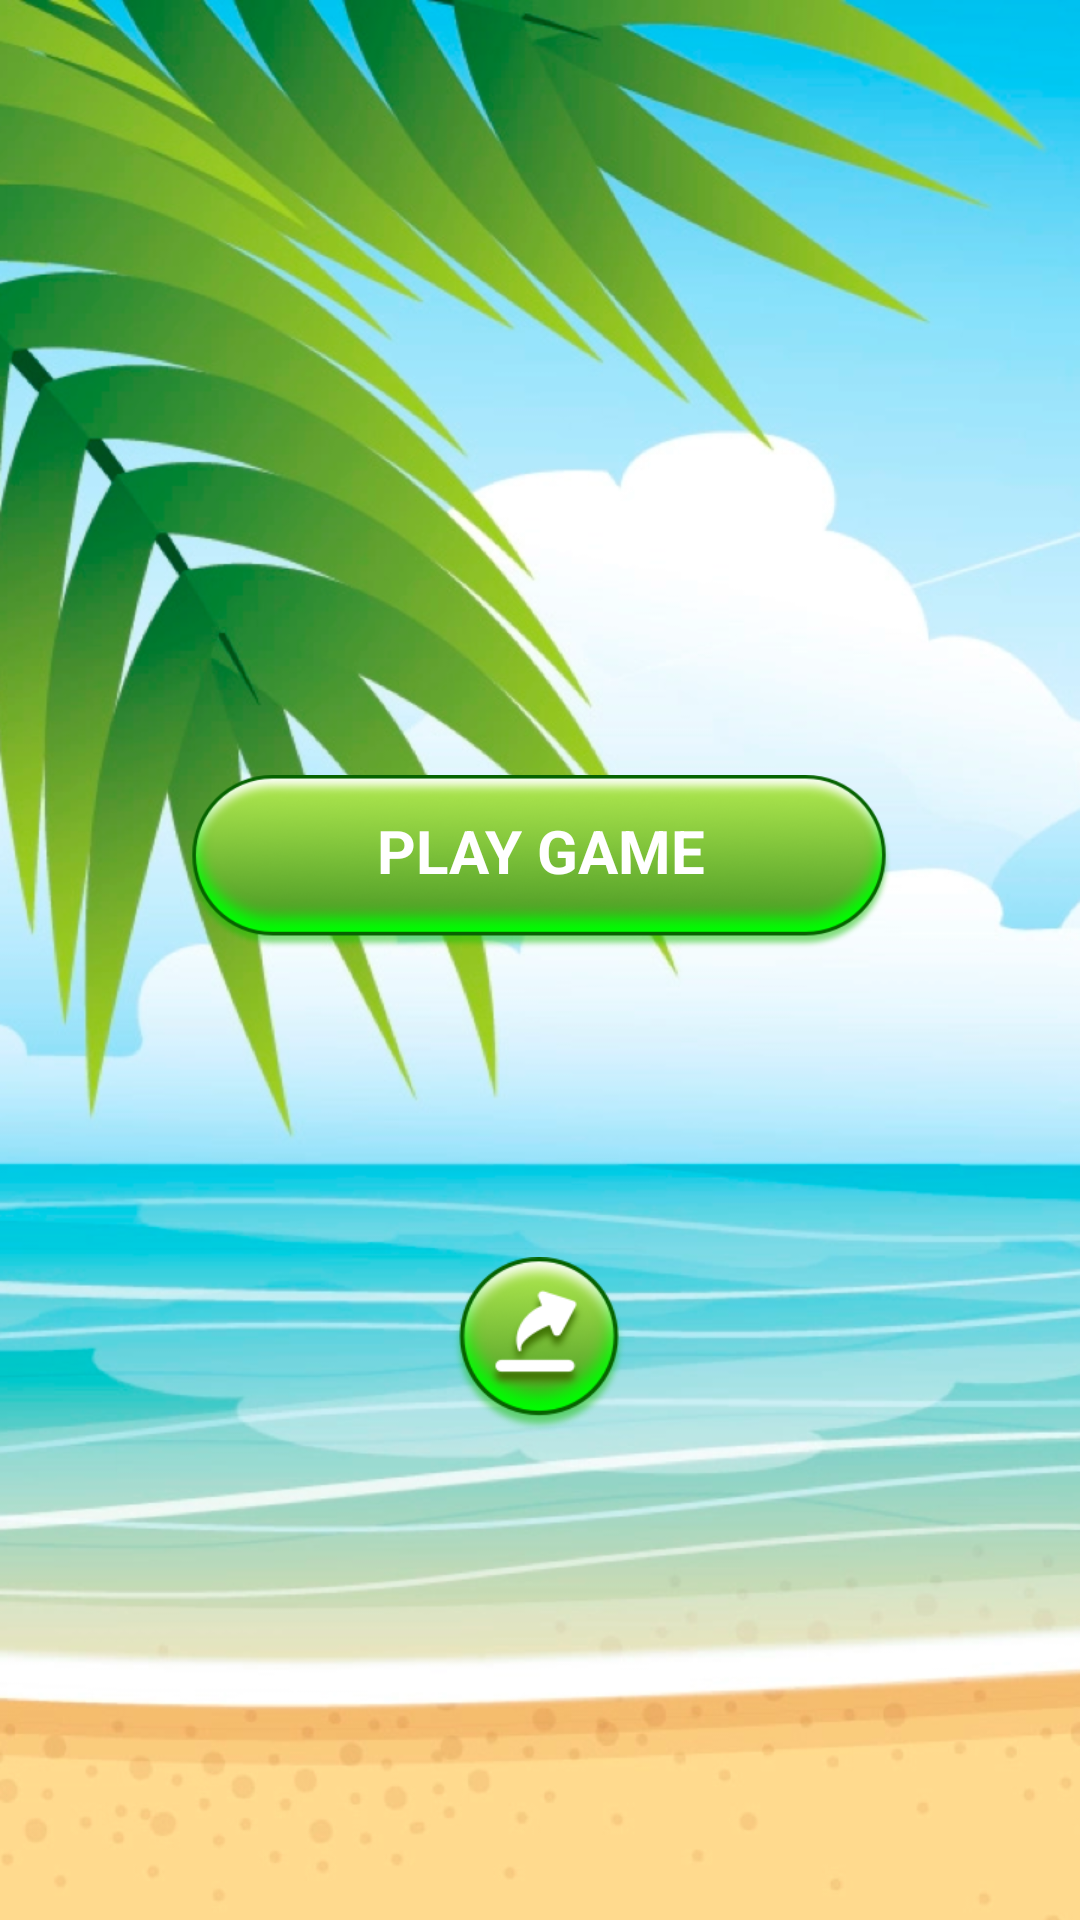

Screen size 1080px×1920px. Icon name, then its center in pixels as (x=x, y=y):
share: (x=539, y=1344)
